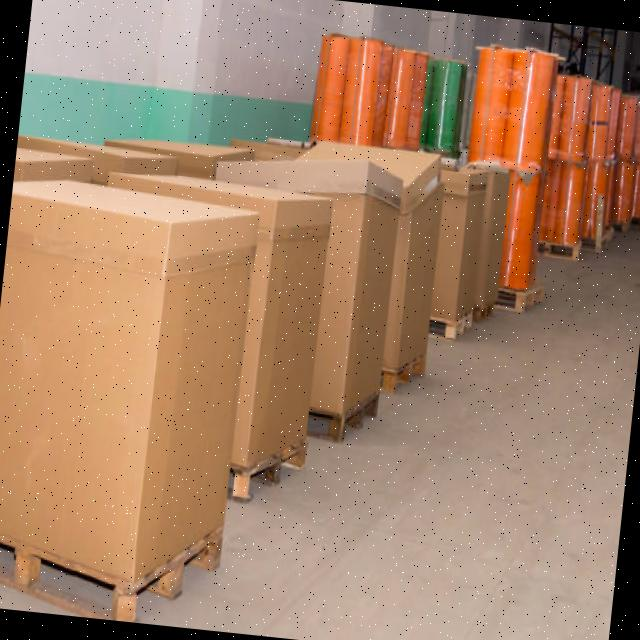Wooden-Pallets: (0, 526, 224, 621), (329, 381, 387, 463), (236, 438, 308, 503), (514, 281, 547, 323)
